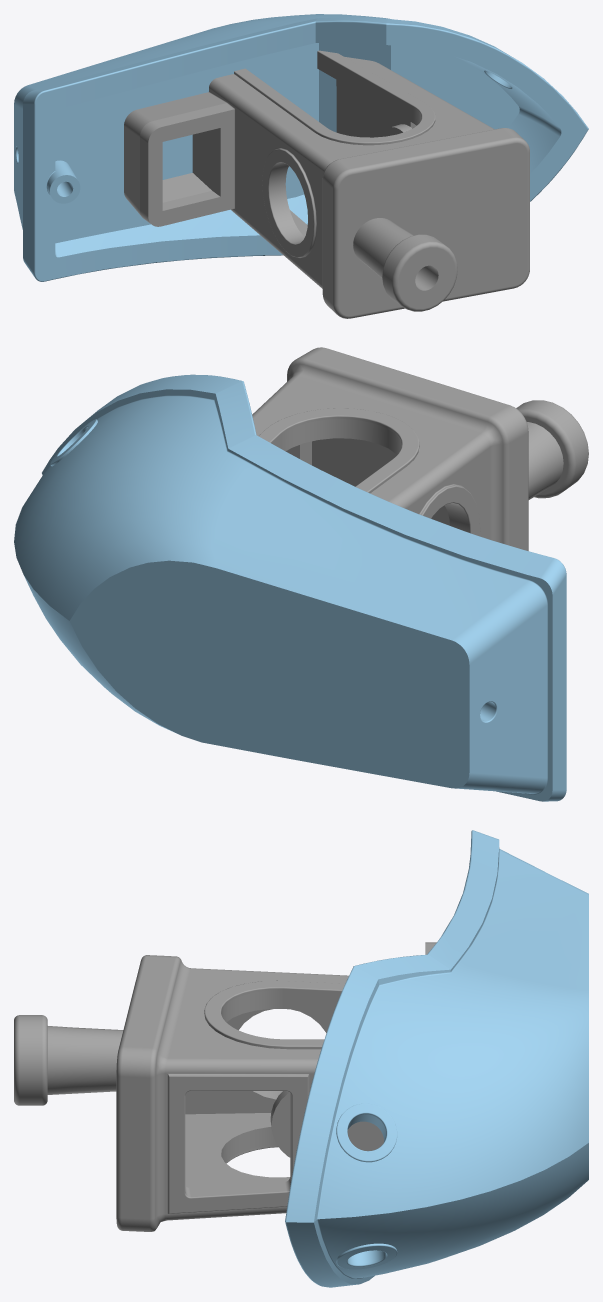
File: 3DBenchy.glb
3 renders of one model, top to bottom at view 1: azimuth 30°, elevation 25°; view 2: azimuth 150°, elevation 25°; view 3: azimuth 270°, elevation 25°, orthographic. The views are drawn at different scales.
Visible parts, largest first — view 1: Wheel House:1, Boat:1; view 2: Boat:1, Wheel House:1; view 3: Boat:1, Wheel House:1.
Part boxes in pixels (box(x1,y1,x2,y2)): Wheel House:1: box(124, 50, 529, 318); Boat:1: box(14, 14, 588, 281); Boat:1: box(14, 374, 566, 801); Wheel House:1: box(252, 347, 588, 550); Boat:1: box(285, 830, 588, 1287); Wheel House:1: box(14, 942, 436, 1231).
Size of the model in its own units: 0.0594 by 0.0302 by 0.0512.
